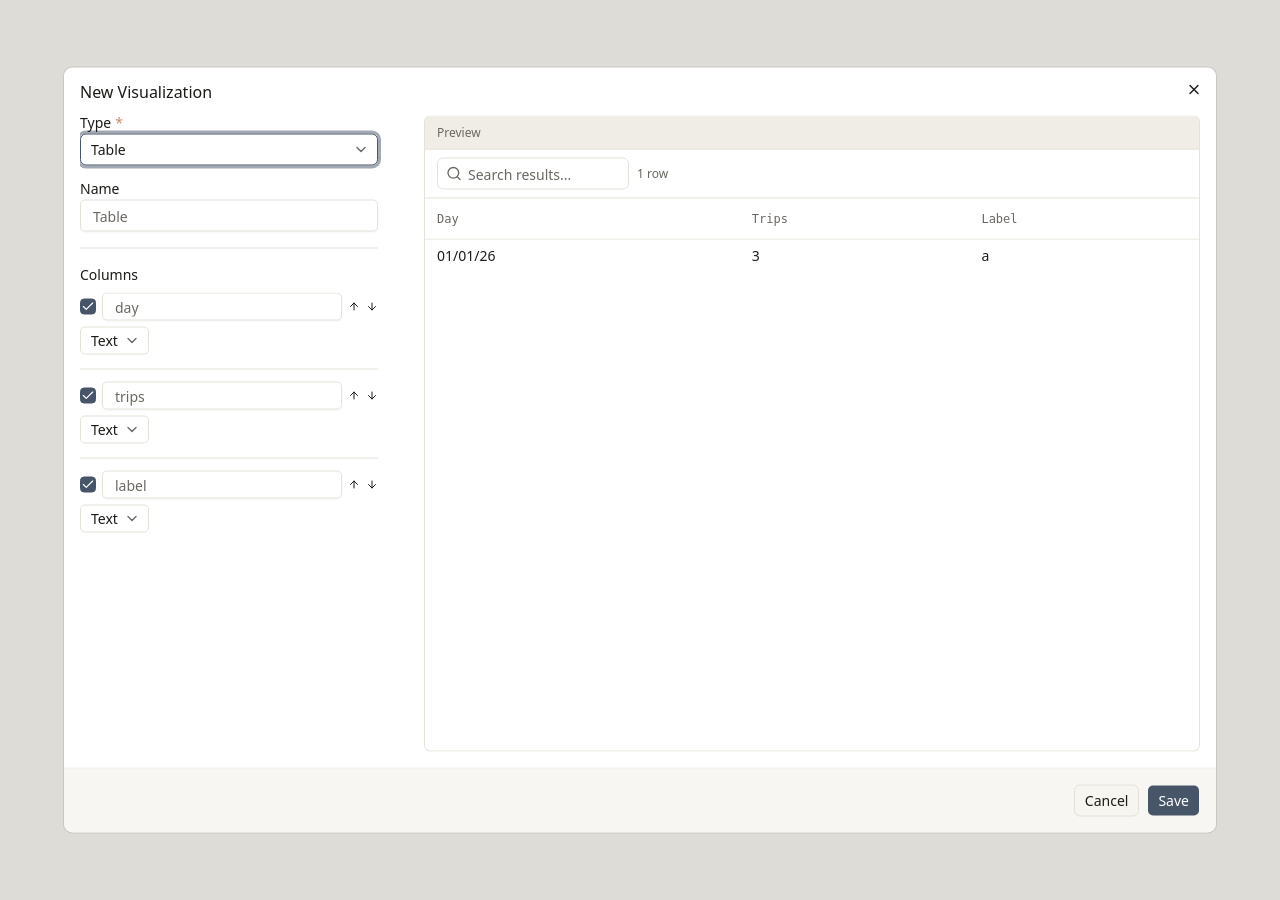
EditVisualizationDialog chart column mapping › picks an x and a y for a chart instead of leaving every column unused
The width and height of the screenshot is (1280, 900).
What coordinates should you click on to do the following:
click the dropdown named "Type"
I would click on:
 (108, 149)
Its box is [80,134,378,166].
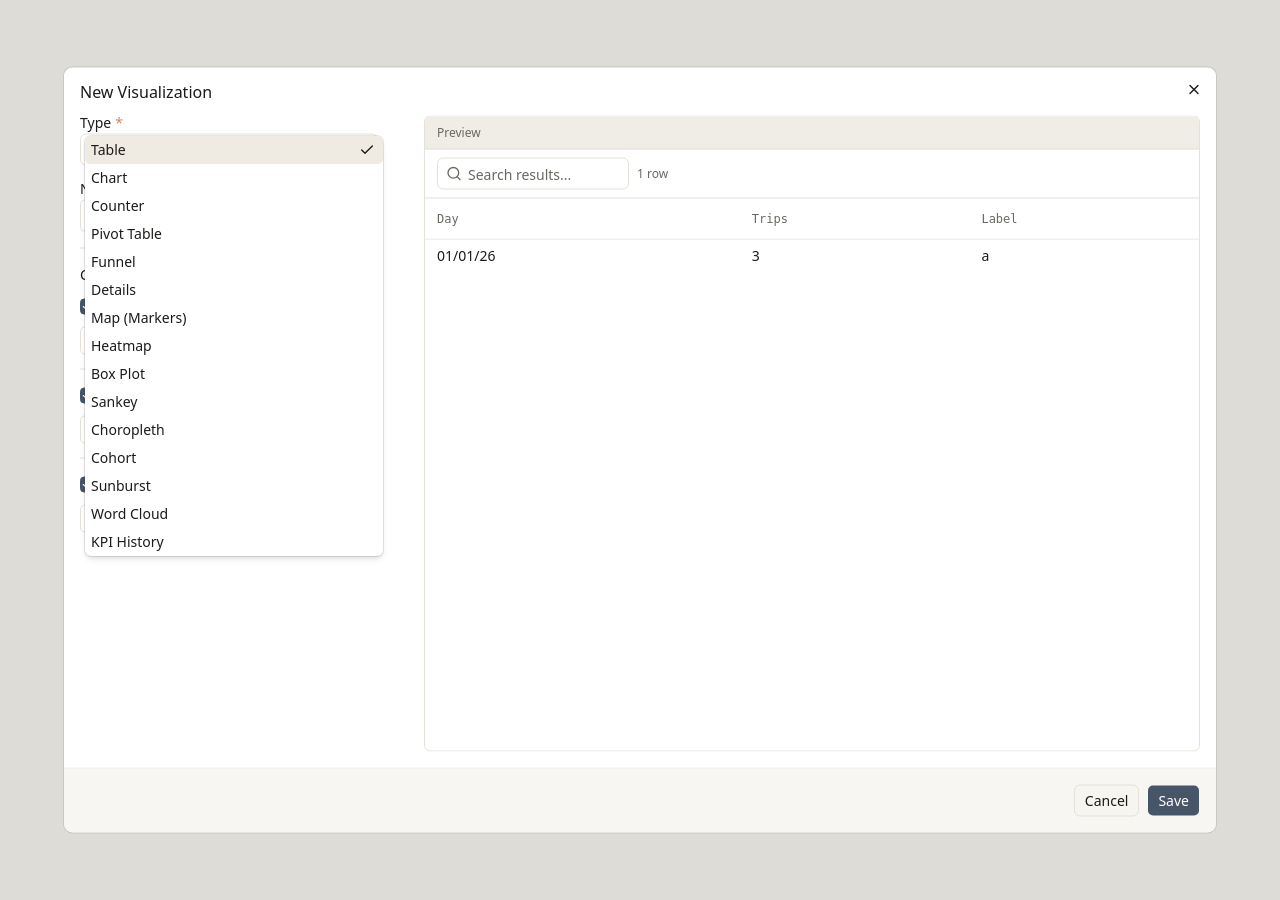
What coordinates should you click on to do the following:
click the option "Chart"
I would click on:
 (109, 177)
Its box is [91,168,127,186].
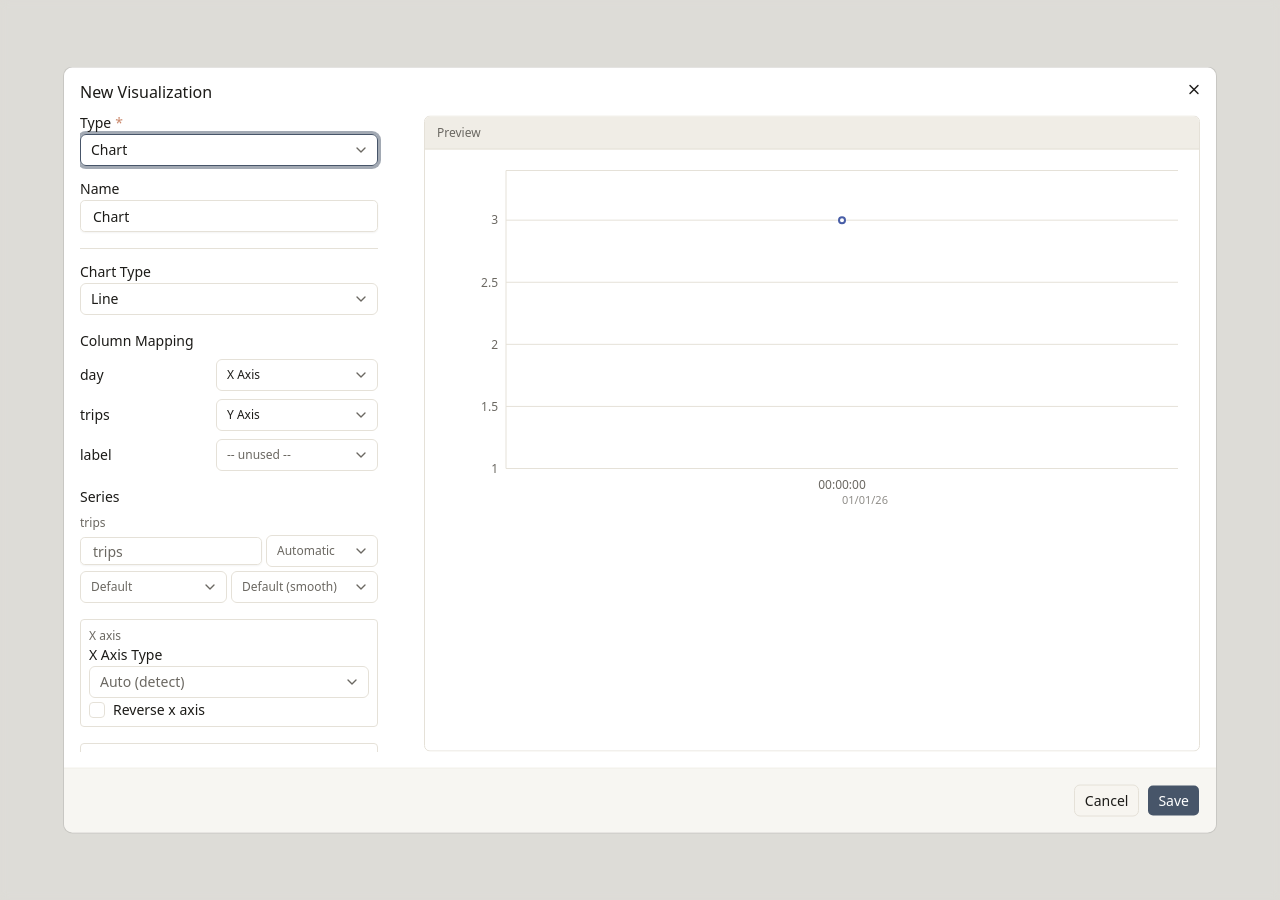
Expected: the dropdown named "Role for day" shows "X Axis", [216,358,378,390]
Expected: the dropdown named "Role for trips" shows "Y Axis", [216,398,378,430]
Expected: the dropdown named "Role for label" shows "-- unused --", [216,438,378,470]
